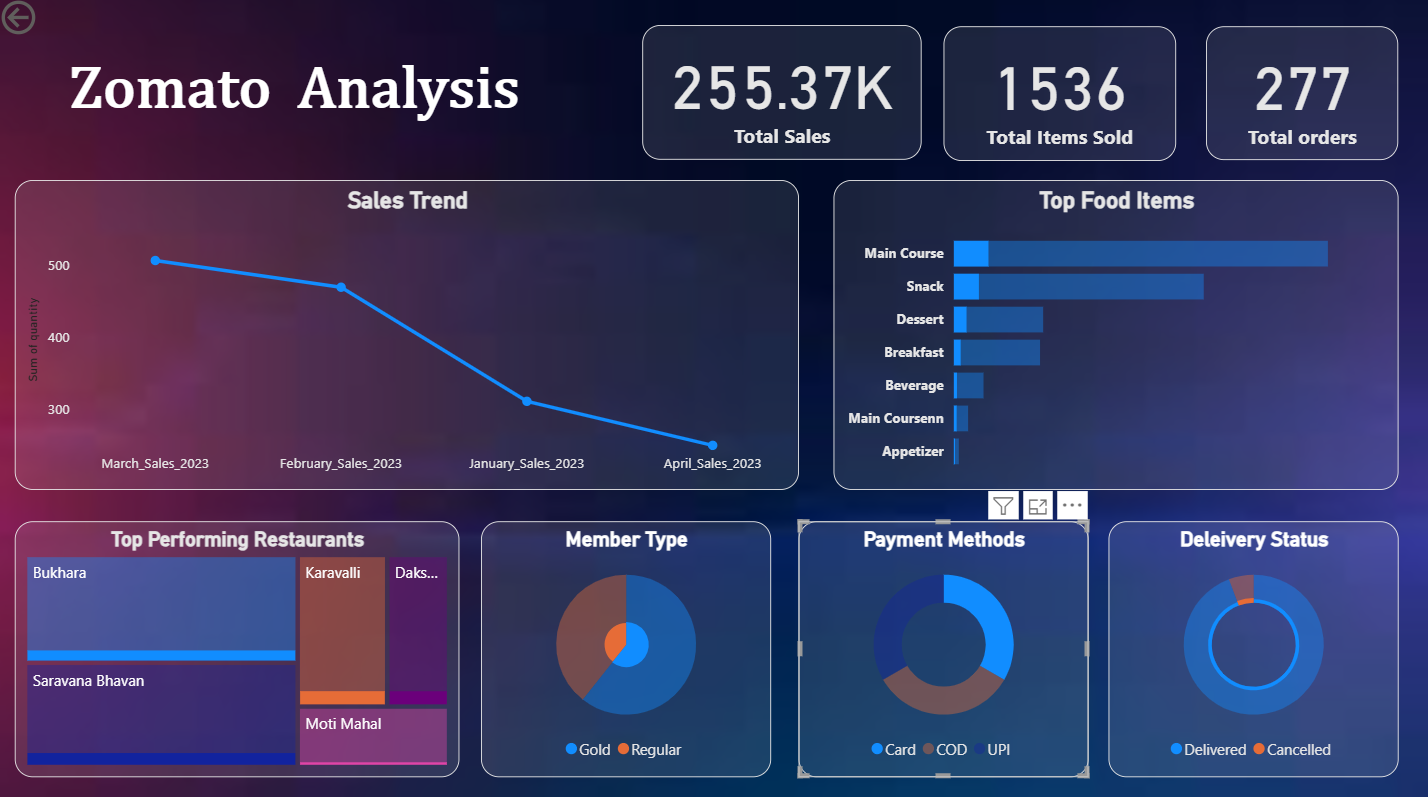

The dashboard page shown, as its layout file describes it:
{"tool":"powerbi","page":{"name":"Page 1","canvas":[1280,720],"ordinal":0},"visuals":[{"type":"clusteredBarChart","title":"Top Food Items","fields":{"Category":["Food_Details.Food_Type"],"Y":["CountNonNull(Orders Data.Fooditem)"]},"box":[745.6,165.3,503.1,276.3],"z":0},{"type":"lineChart","title":"Sales Trend","fields":{"Category":["Orders Data.April_Sales_2023"],"Y":["Sum(Orders Data.quantity)"]},"box":[16.9,165.3,698.5,276.3],"z":1000},{"type":"donutChart","title":"Payment Methods","fields":{"Category":["Orders Data.payment_method"],"Y":["CountNonNull(Customer Details.customer_id)"]},"box":[715.1,468.6,258.1,227.9],"z":2000},{"type":"donutChart","title":"Deleivery Status","fields":{"Category":["Orders Data.deliver_status"],"Y":["CountNonNull(Orders Data.customer_id)"]},"box":[990.5,468.1,258.2,228],"z":3000},{"type":"pieChart","title":"Member Type","fields":{"Category":["Customer Details.member_Type"],"Y":["CountNonNull(Orders Data.customer_id)"]},"box":[431.4,468.6,258.1,227.9],"z":4000},{"type":"treemap","title":"Top Performing Restaurants","fields":{"Group":["Resturant_Details.Resturant_Name"],"Values":["Sum(Orders Data.quantity)"]},"box":[16.9,468.1,395.7,228],"z":5000},{"type":"card","fields":{"Values":["Customer Details.Total orders"]},"box":[1077.4,27.7,171.3,119.4],"z":6000},{"type":"card","fields":{"Values":["Customer Details.Total Items Sold"]},"box":[844.2,27.9,207,119.8],"z":8000},{"type":"actionButton","box":[0,0,100,40],"z":9000},{"type":"card","fields":{"Values":["Avg(Orders Data.order_id)"]},"box":[575.6,26.7,248.8,119.8],"z":10000},{"type":"textbox","box":[60.5,50,448.8,74.4],"z":11000}]}

Visuals, with their boxes in screenshot pixels (x1, y1, x2, y2), scaled from the page's 1280x720 canvas onto the 1428x797 screenshot:
"Top Food Items" clusteredBarChart: rect(832, 183, 1393, 489)
"Sales Trend" lineChart: rect(19, 183, 798, 489)
"Payment Methods" donutChart: rect(798, 519, 1086, 771)
"Deleivery Status" donutChart: rect(1105, 518, 1393, 771)
"Member Type" pieChart: rect(481, 519, 769, 771)
"Top Performing Restaurants" treemap: rect(19, 518, 460, 771)
card - Customer Details.Total orders: rect(1202, 31, 1393, 163)
card - Customer Details.Total Items Sold: rect(942, 31, 1173, 163)
actionButton: rect(0, 0, 112, 44)
card - Avg(Orders Data.order_id): rect(642, 30, 920, 162)
textbox: rect(67, 55, 568, 138)
